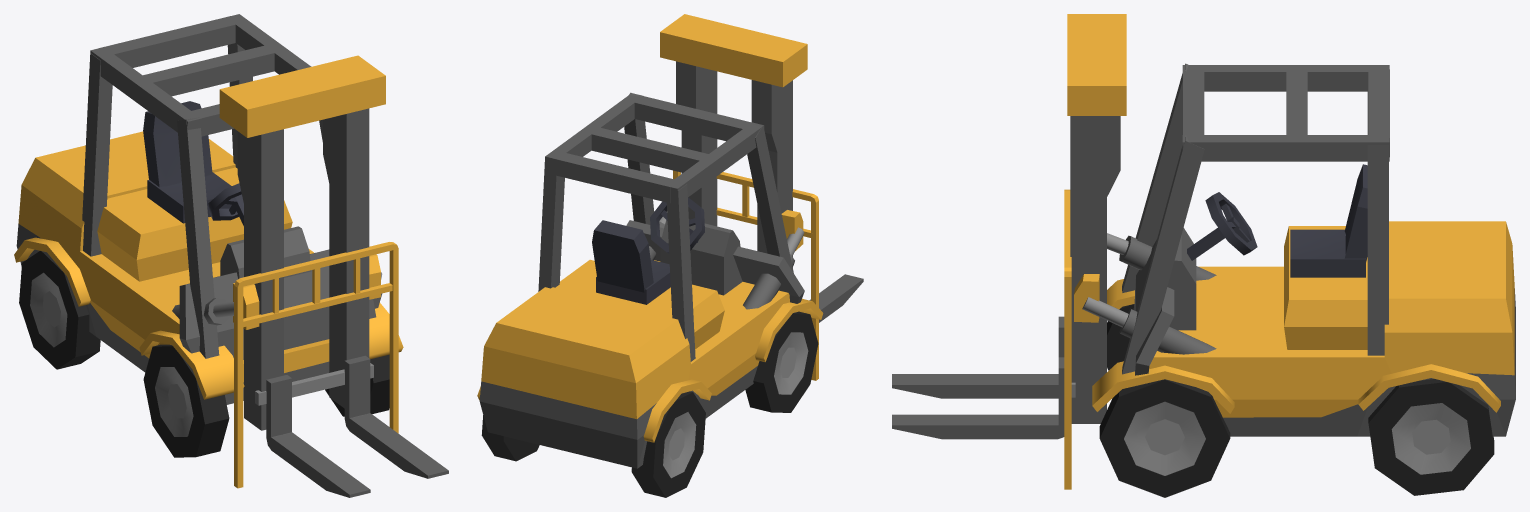
Rendered from forkliftTruck.fbx.
3 views of the same model, side by side, from view 1: azimuth 30°, elevation 25°; view 2: azimuth 150°, elevation 25°; view 3: azimuth 270°, elevation 25° (orthographic). The views are drawn at different scales.
Parts seen in each view (by area): view 1: forkliftTruck; view 2: forkliftTruck; view 3: forkliftTruck.
Part boxes in pixels (x1=…): forkliftTruck: x1=14, y1=14, x2=448, y2=497; forkliftTruck: x1=477, y1=14, x2=863, y2=497; forkliftTruck: x1=892, y1=14, x2=1515, y2=497.
Bounding box in the file's own units: 0.8461 × 1.54 × 2.19.
